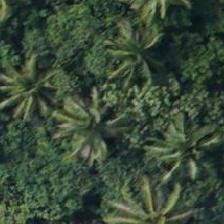coconut_tree: (92, 7, 182, 97), (47, 87, 137, 177), (0, 47, 75, 137), (148, 108, 223, 198)
